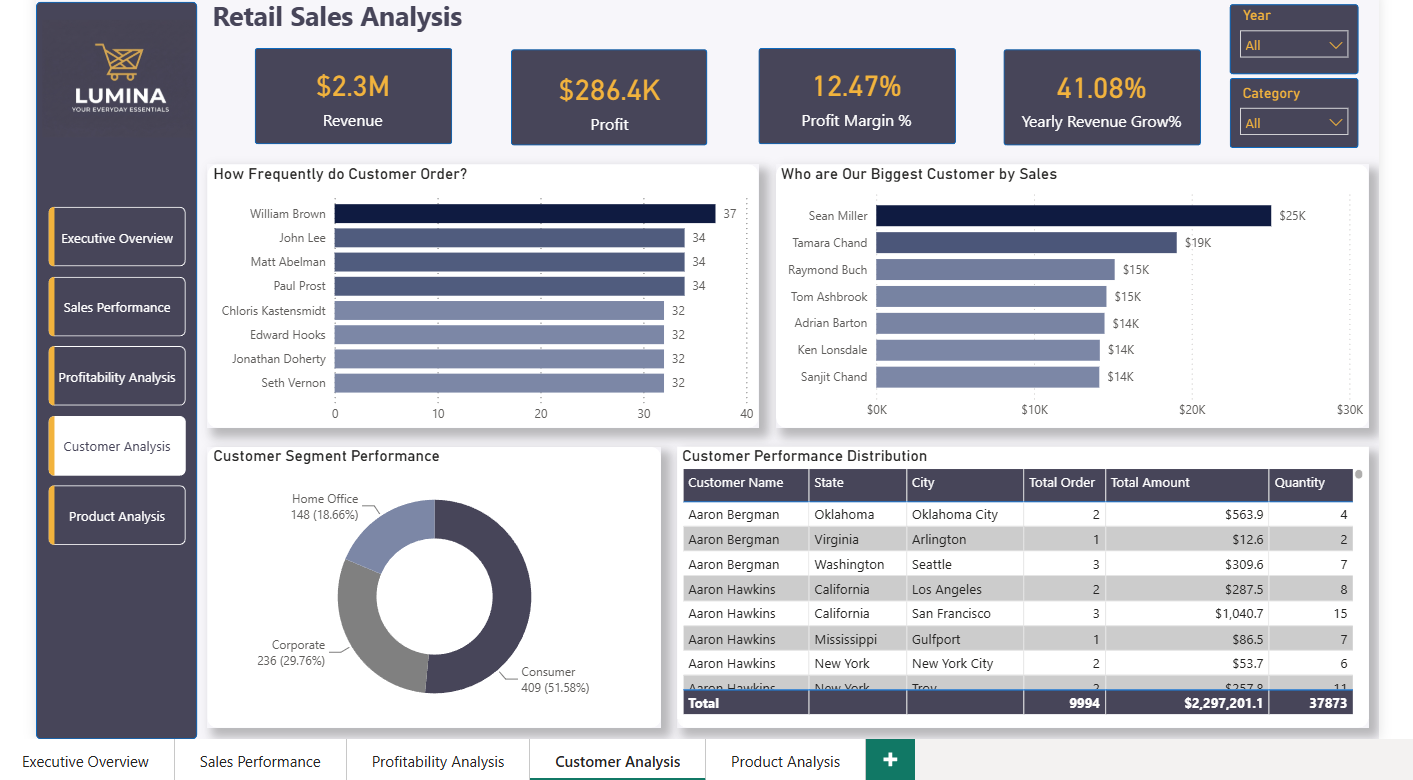

Layout of this report page (visuals, bound fields, positions):
{"tool":"powerbi","page":{"name":"Customer Analysis","canvas":[1350,750],"ordinal":3},"visuals":[{"type":"shape","box":[644.7,456.2,695,282.8],"z":0},{"type":"shape","box":[172.2,172.2,554.2,265.2],"z":1000},{"type":"shape","box":[0,8.8,162.1,741.5],"z":2000},{"type":"pageNavigator","box":[12.4,214.5,138.9,341],"z":3000},{"type":"shape","box":[219.9,55.3,198.6,96.8],"z":5000},{"type":"shape","box":[477.5,56.6,197.3,96.8],"z":6000},{"type":"shape","box":[726.4,55.3,198.6,96.8],"z":7000},{"type":"shape","box":[972.7,56.6,198.6,96.8],"z":8000},{"type":"shape","box":[1200.2,11.3,129.4,70.4],"z":9000},{"type":"textbox","box":[172.4,0,317.4,47.1],"z":10000},{"type":"card","fields":{"Values":["fact_table.total_sale"]},"box":[219.9,55.3,197.3,95.5],"z":11000},{"type":"card","fields":{"Values":["fact_table.total_profit"]},"box":[478.8,59.1,196,95.5],"z":12000},{"type":"card","fields":{"Values":["fact_table.profit_margin"]},"box":[726.4,55.3,197.3,95.5],"z":13000},{"type":"card","fields":{"Values":["dim_customer.yearly_sales_grow %"]},"box":[972.7,56.6,197.3,95.5],"z":14000},{"type":"shape","box":[744,172.2,595.7,265.2],"z":15000},{"type":"shape","box":[172.2,456.2,456.2,282.8],"z":16000},{"type":"barChart","title":"How Frequently do Customer Order?","fields":{"Y":["fact_table.total_order"],"Category":["dim_customer.customer_name"]},"box":[173.4,172.2,553,268.9],"z":17000},{"type":"barChart","title":"Who are Our Biggest Customer by Sales","fields":{"Y":["fact_table.total_sale"],"Category":["dim_customer.customer_name"]},"box":[744,172.2,595.7,265.2],"z":18000},{"type":"slicer","fields":{"Values":["dim_date.Date.Variation.Date Hierarchy.Year"]},"box":[1200.2,8.8,129.4,69.1],"z":19000},{"type":"shape","box":[1200.2,85.5,129.4,70.4],"z":20000},{"type":"slicer","fields":{"Values":["dim_product.category"]},"box":[1200.2,86.7,129.4,69.1],"z":21000},{"type":"tableEx","title":"Customer Performance Distribution","fields":{"Values":["dim_customer.customer_name","dim_location.state","dim_location.city","fact_table.total_order","fact_table.total_sale","fact_table.total_quantity_sold"]},"box":[644.7,456.2,695,274],"z":22000},{"type":"donutChart","title":"Customer Segment Performance","fields":{"Y":["fact_table.total_customer"],"Category":["dim_customer.segment"]},"box":[173.4,456.2,454.9,284],"z":23000},{"type":"image","box":[6.3,18.9,152.1,134.5],"z":23001}]}

Visuals, with their boxes in screenshot pixels (x1, y1, x2, y2), scaled from the page's 1350x750 canvas onto the 1413x780 screenshot:
shape: <region>675, 474, 1402, 769</region>
shape: <region>180, 179, 760, 455</region>
shape: <region>0, 9, 170, 779</region>
pageNavigator: <region>13, 223, 158, 578</region>
shape: <region>230, 58, 438, 158</region>
shape: <region>500, 59, 706, 160</region>
shape: <region>760, 58, 968, 158</region>
shape: <region>1018, 59, 1226, 160</region>
shape: <region>1256, 12, 1392, 85</region>
textbox: <region>180, 0, 513, 49</region>
card - fact_table.total_sale: <region>230, 58, 437, 157</region>
card - fact_table.total_profit: <region>501, 61, 706, 161</region>
card - fact_table.profit_margin: <region>760, 58, 967, 157</region>
card - dim_customer.yearly_sales_grow %: <region>1018, 59, 1225, 158</region>
shape: <region>779, 179, 1402, 455</region>
shape: <region>180, 474, 658, 769</region>
"How Frequently do Customer Order?" barChart: <region>181, 179, 760, 459</region>
"Who are Our Biggest Customer by Sales" barChart: <region>779, 179, 1402, 455</region>
slicer - dim_date.Date.Variation.Date Hierarchy.Year: <region>1256, 9, 1392, 81</region>
shape: <region>1256, 89, 1392, 162</region>
slicer - dim_product.category: <region>1256, 90, 1392, 162</region>
"Customer Performance Distribution" tableEx: <region>675, 474, 1402, 759</region>
"Customer Segment Performance" donutChart: <region>181, 474, 658, 770</region>
image: <region>7, 20, 166, 160</region>
